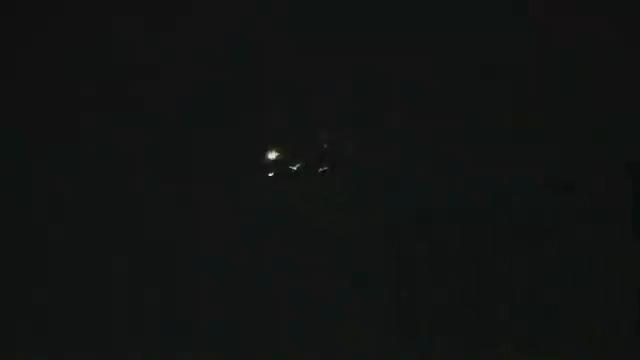Plane: (207, 135, 382, 186)
